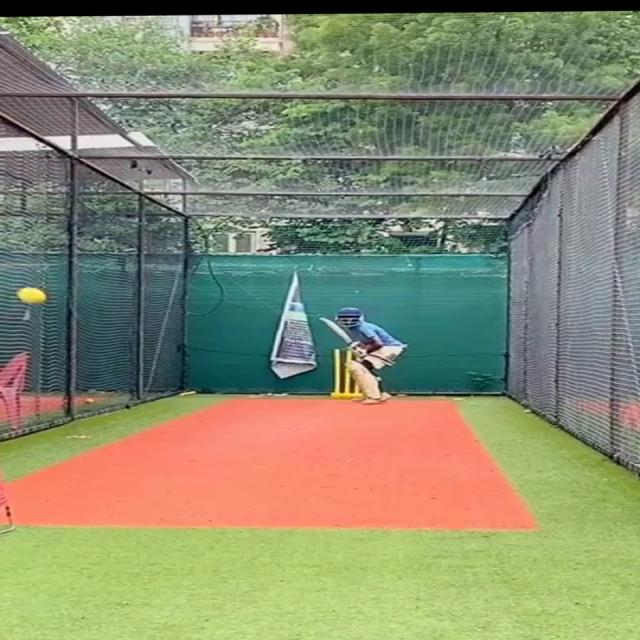ball: (16, 285, 48, 306)
stump: (327, 347, 353, 398)
